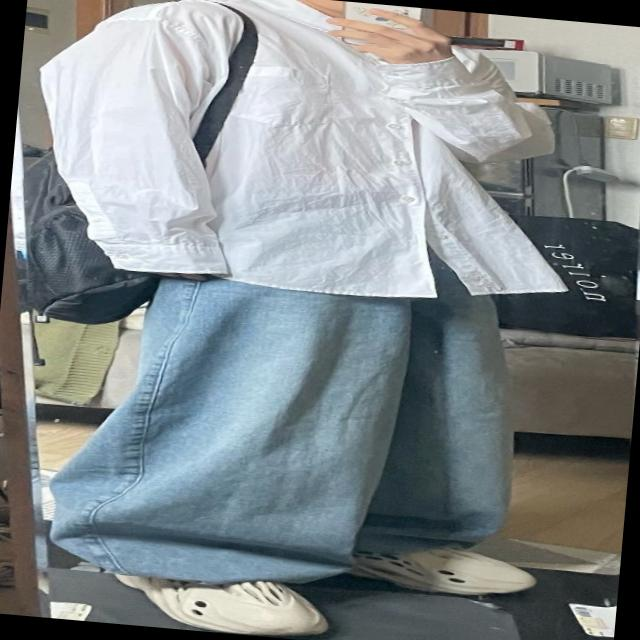denimpants: (44, 211, 526, 607)
shirt: (21, 0, 597, 315)
